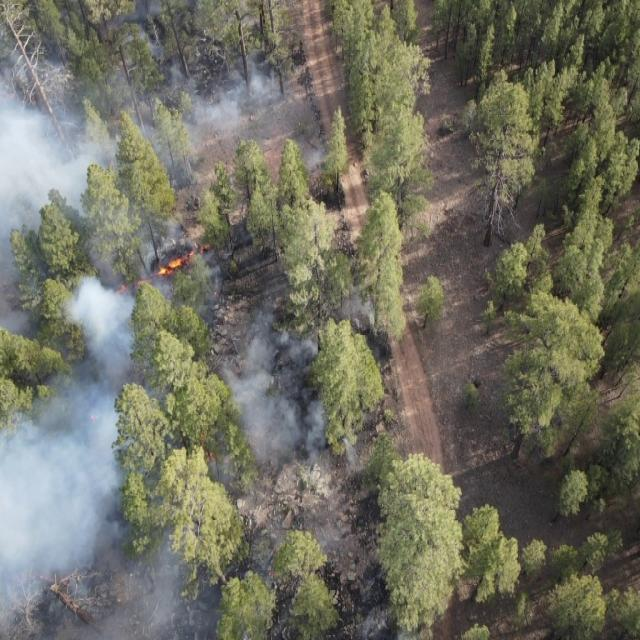fire: (96, 239, 216, 309), (194, 430, 217, 462), (6, 90, 16, 100), (30, 95, 38, 107), (268, 569, 276, 579), (91, 413, 98, 423)
smoke: (0, 0, 289, 221), (0, 221, 134, 640), (213, 284, 386, 468), (131, 530, 216, 640), (136, 222, 232, 306)
